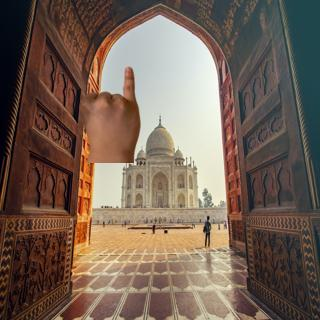FINE: (76, 65, 145, 160)
